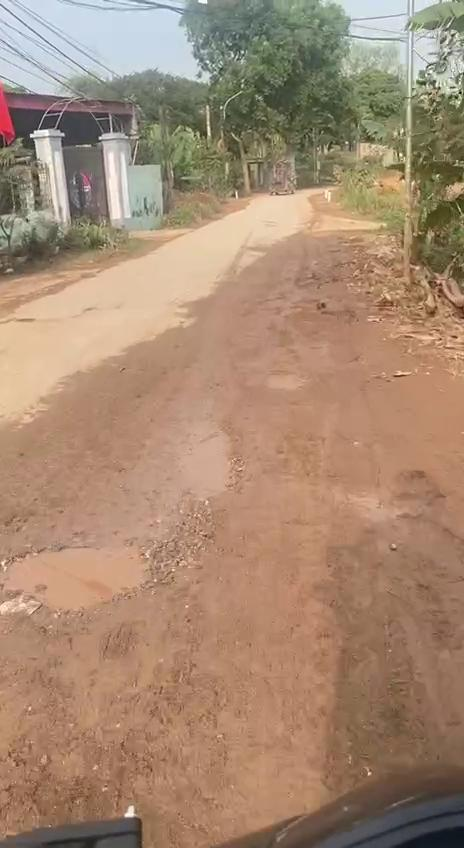pothole: (0, 530, 164, 614)
